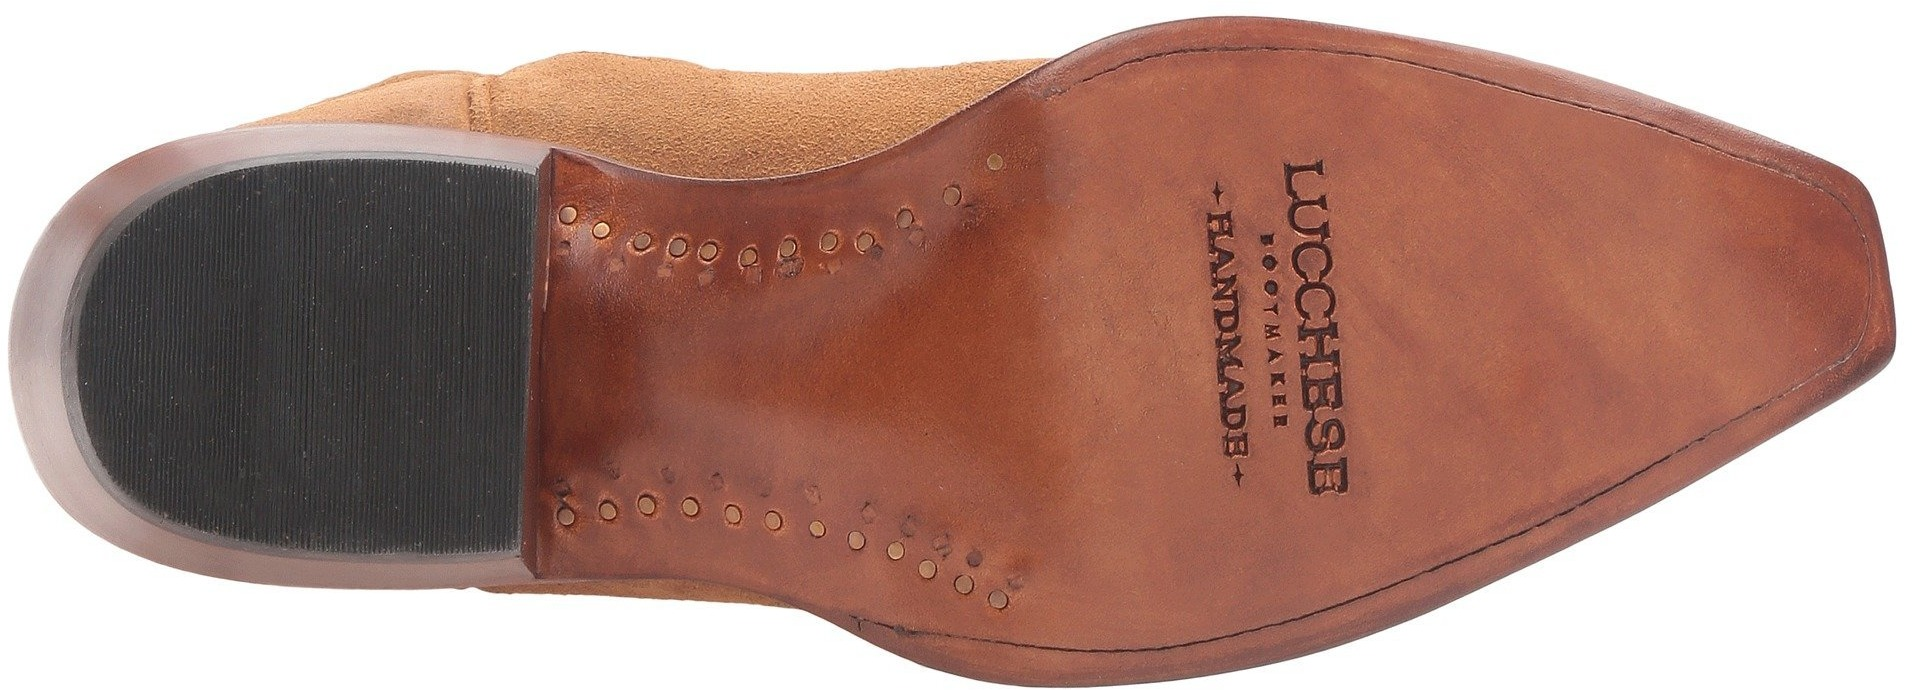exclude: (513, 44, 1084, 686)
other: (1406, 165, 1691, 444), (117, 267, 335, 486), (340, 188, 521, 367), (338, 379, 508, 538), (1703, 201, 1864, 349), (1094, 503, 1258, 629)
text: (1186, 130, 1402, 506)
